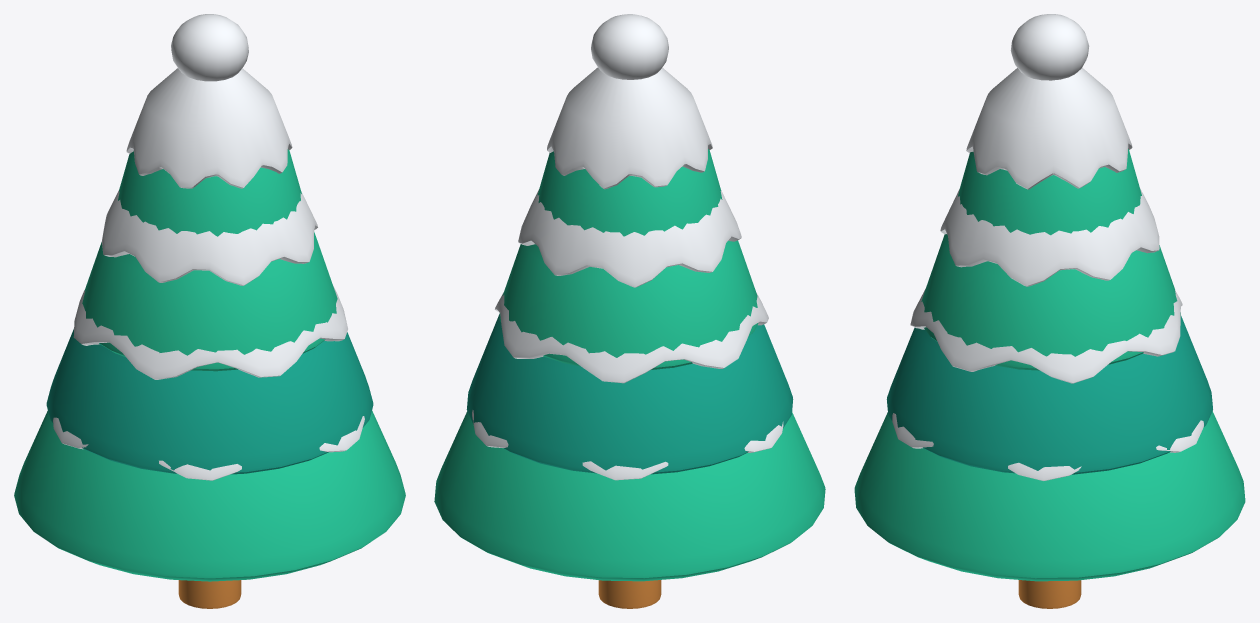
The model's file is SnowFirA.glb.
The picture shows the model from 3 angles, left to right: view 1: azimuth 30°, elevation 25°; view 2: azimuth 150°, elevation 25°; view 3: azimuth 270°, elevation 25°; orthographic projection.
Visible parts, largest first — view 1: SnowFirA; view 2: SnowFirA; view 3: SnowFirA.
Part boxes in pixels (bbox=[...]): SnowFirA: bbox=[14, 14, 405, 608]; SnowFirA: bbox=[434, 14, 825, 608]; SnowFirA: bbox=[854, 14, 1245, 608].
Bounding box in the file's own units: 13.92 × 22.72 × 13.92.
Materials: 1 (1 with a texture image).
